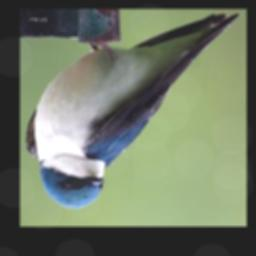Swallow: (25, 10, 241, 210)
